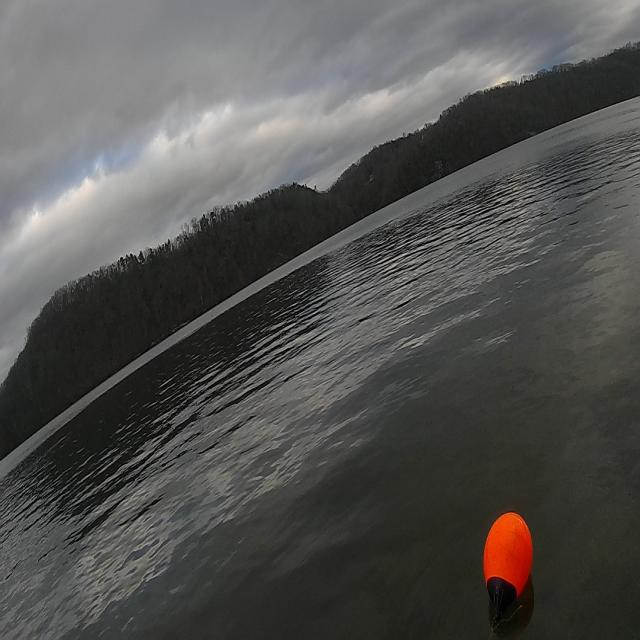Buoy: (479, 508, 536, 632)
